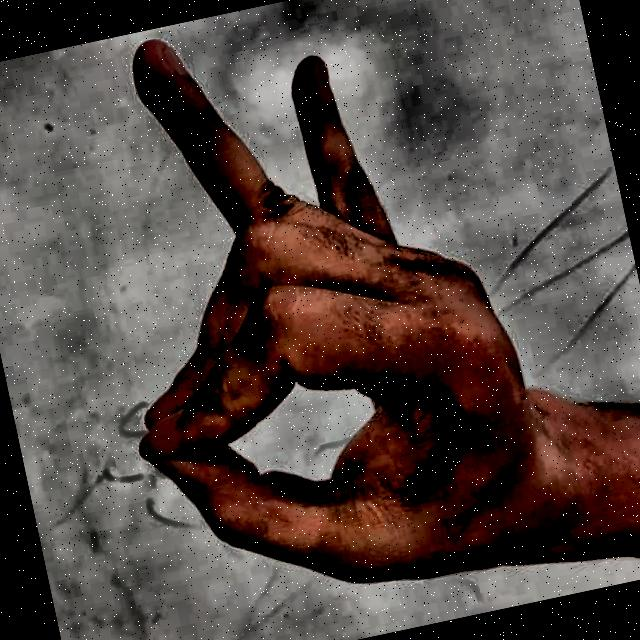Na: (12, 0, 585, 640)
